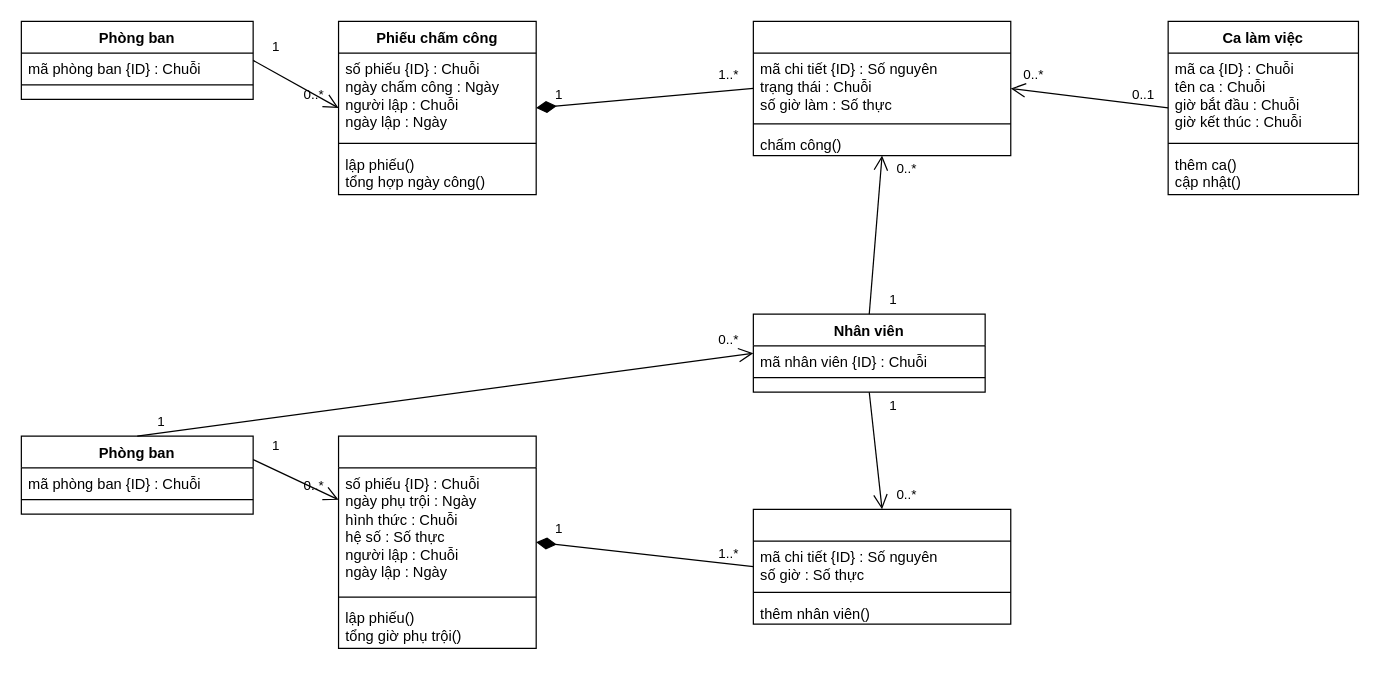
This 1380x673 diagram has some shape labels left out. The shapes that lost their labels are listed below. From the top down, each one's box as (x1, y1, x2, y2) in pixels, then its label:
(752, 20, 1011, 156): Chi tiết chấm công
(337, 435, 536, 648): Phiếu phụ trội
(752, 508, 1011, 624): Chi tiết phụ trội
